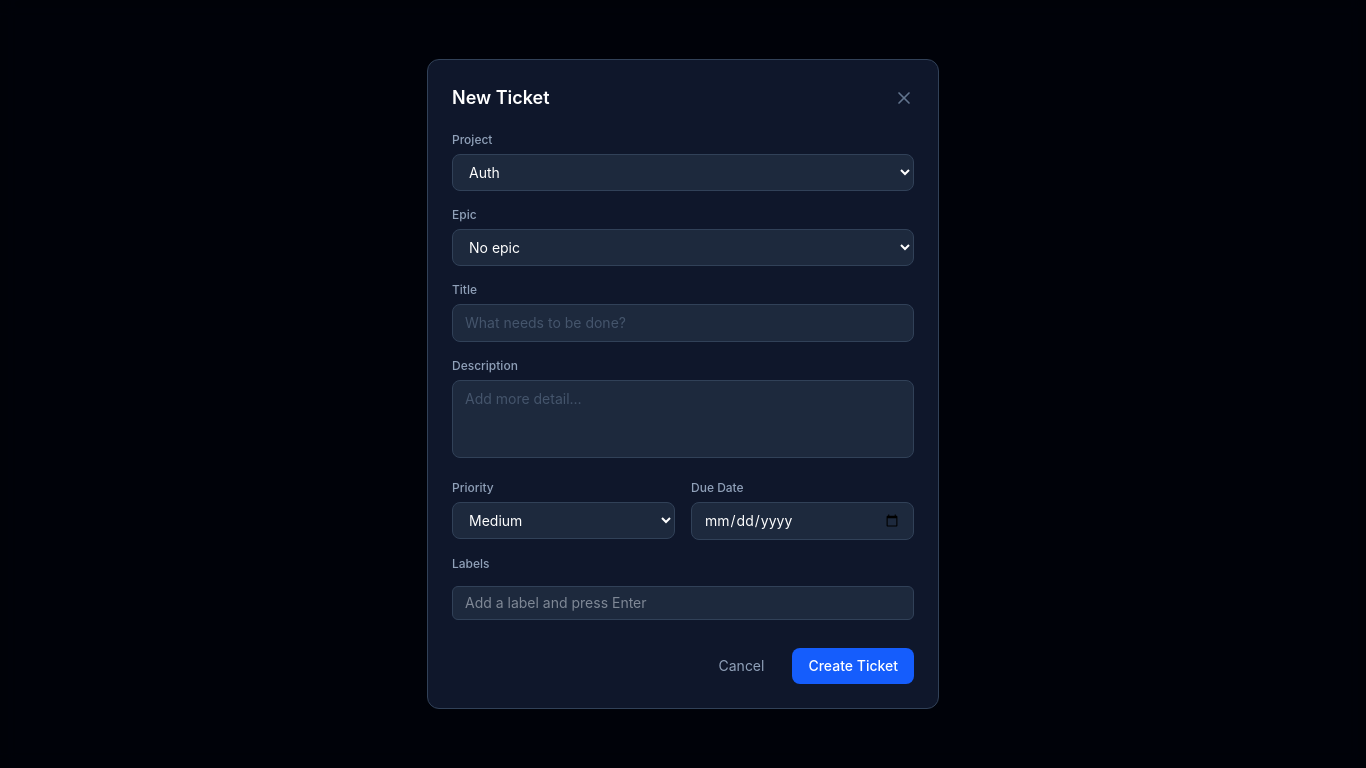
Test: CreateTicketModal: a failed create › clears the error and can succeed on retry
The width and height of the screenshot is (1366, 768).
In the field labelled "Title": {"x": 683, "y": 323} [452,304,914,342], type "Ship it"
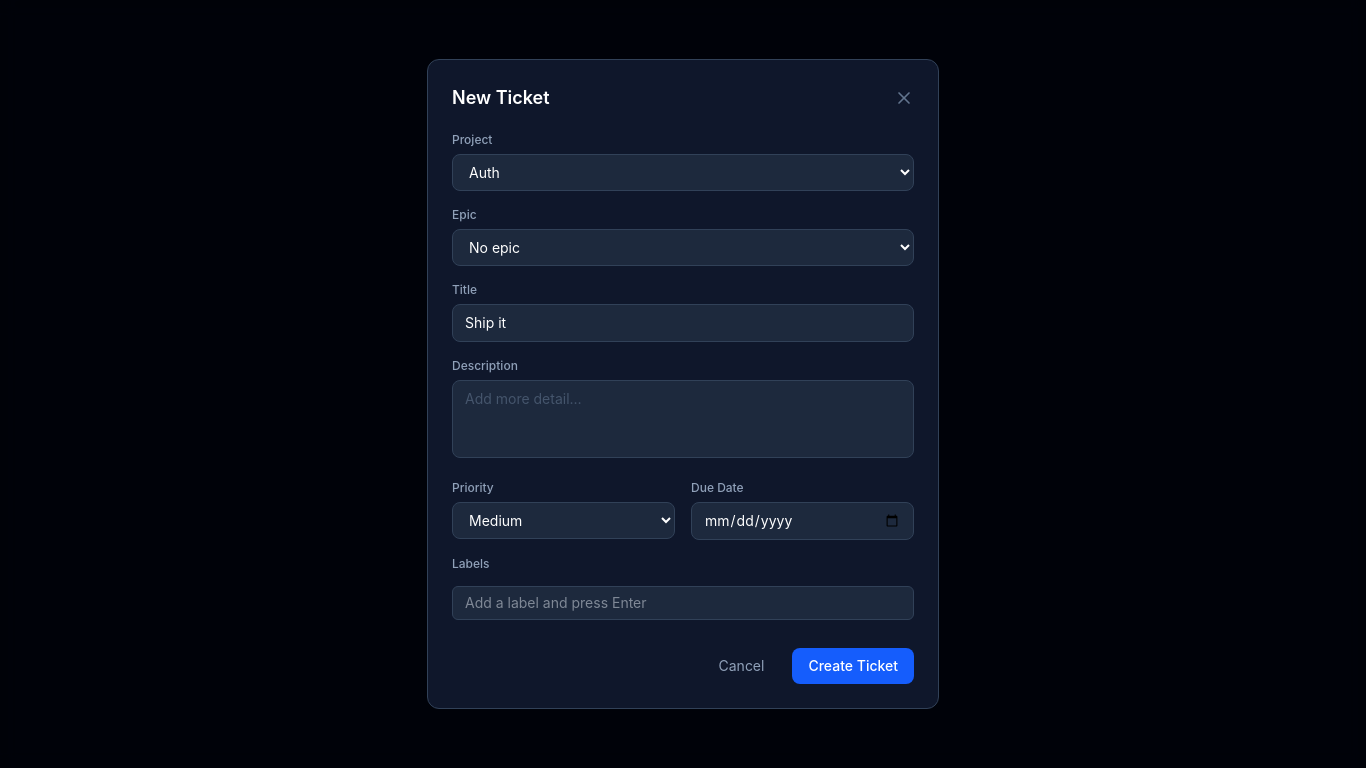
Click the button "Create Ticket": {"x": 853, "y": 666} [792,648,914,684]
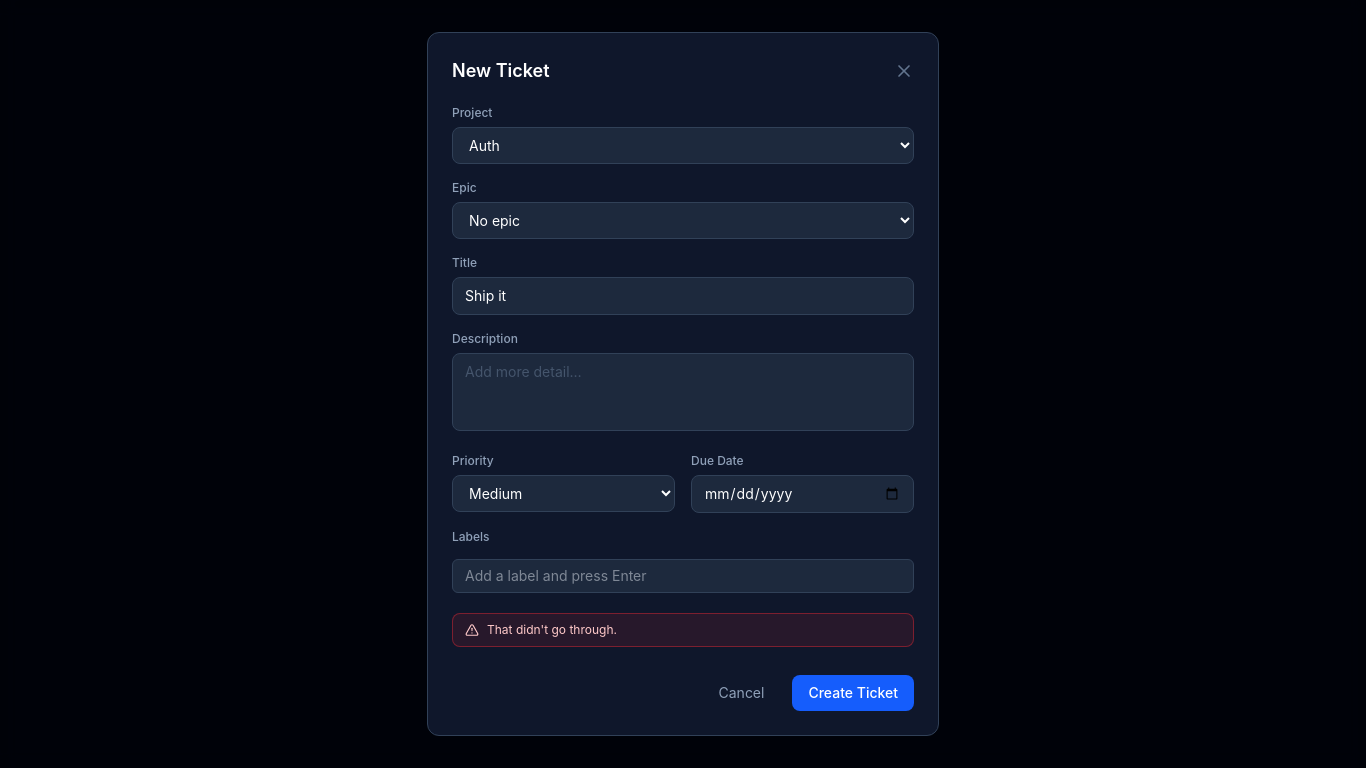
Expected: the message "That didn't go through." is shown, [452,613,914,647]
Click the button "Create Ticket": {"x": 853, "y": 693} [792,675,914,711]
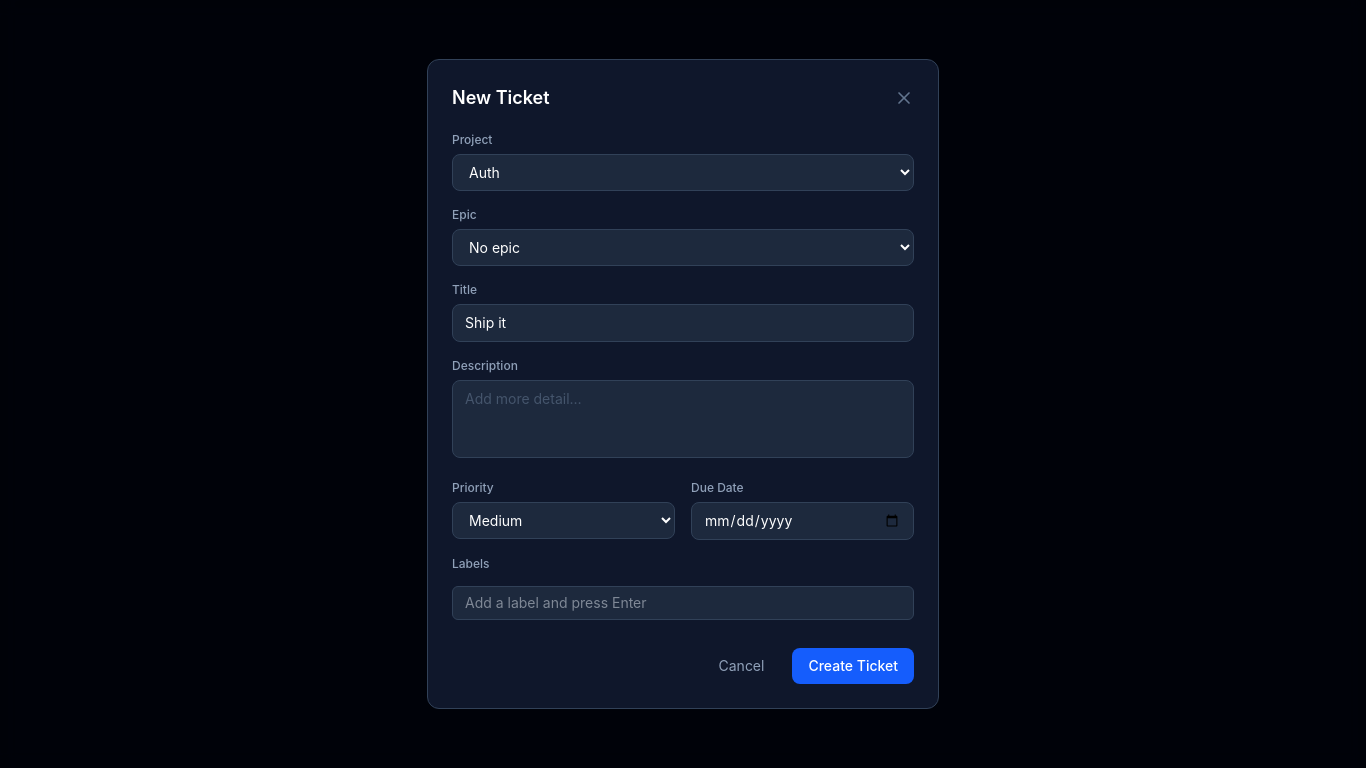
Expected: the message with test id "create-ticket-error" is gone
